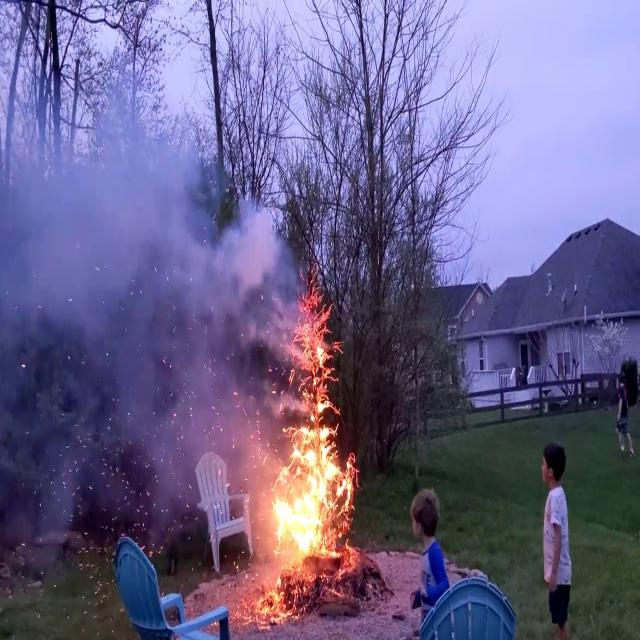Fire: (261, 292, 361, 580)
Smoke: (1, 9, 262, 512)
